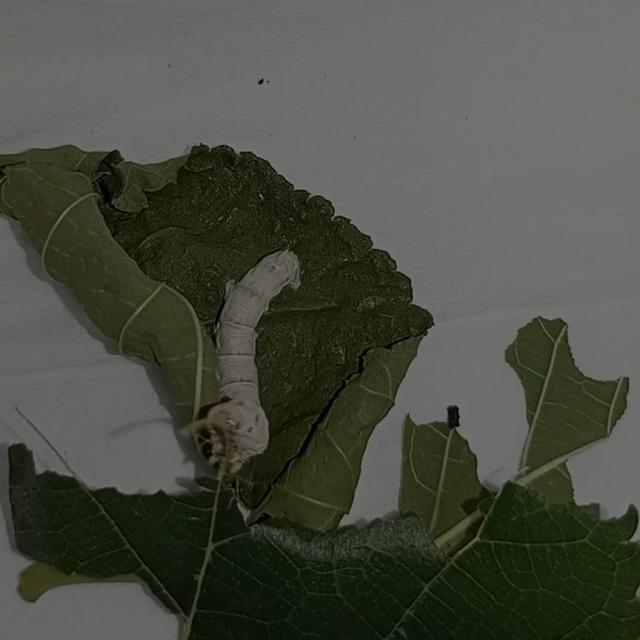Healthy: (191, 235, 310, 479)
